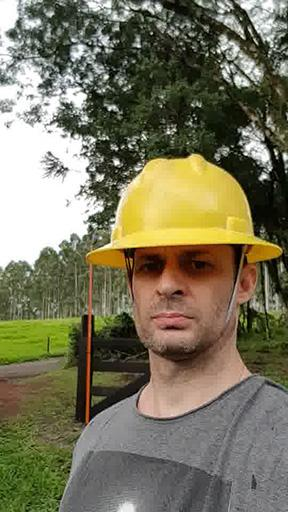Vara_Manobra: (83, 242, 96, 424)
